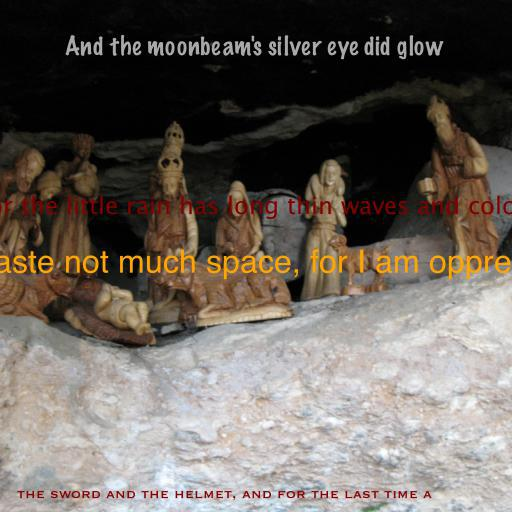Big Caslon: (0, 249, 512, 280)
Copperplate: (16, 490, 432, 501)
Lucida Grande: (0, 195, 512, 219)
Marker Felt: (65, 34, 443, 60)
